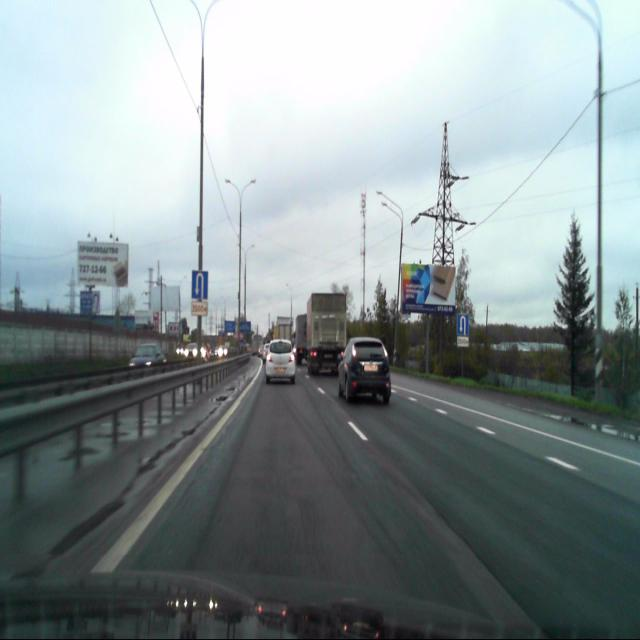road sign: (192, 270, 208, 298), (456, 314, 468, 335), (192, 301, 208, 316)
